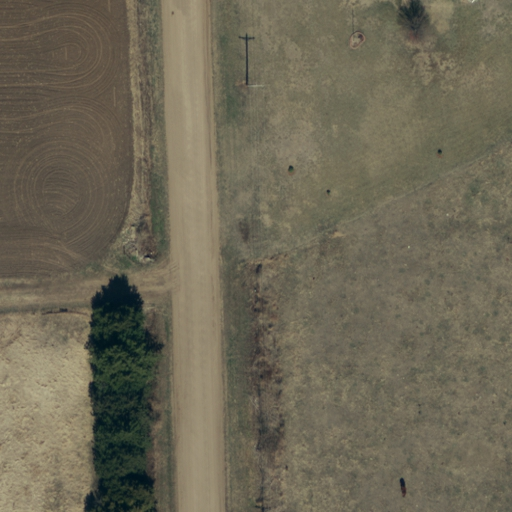DT: (234, 73, 270, 99)
